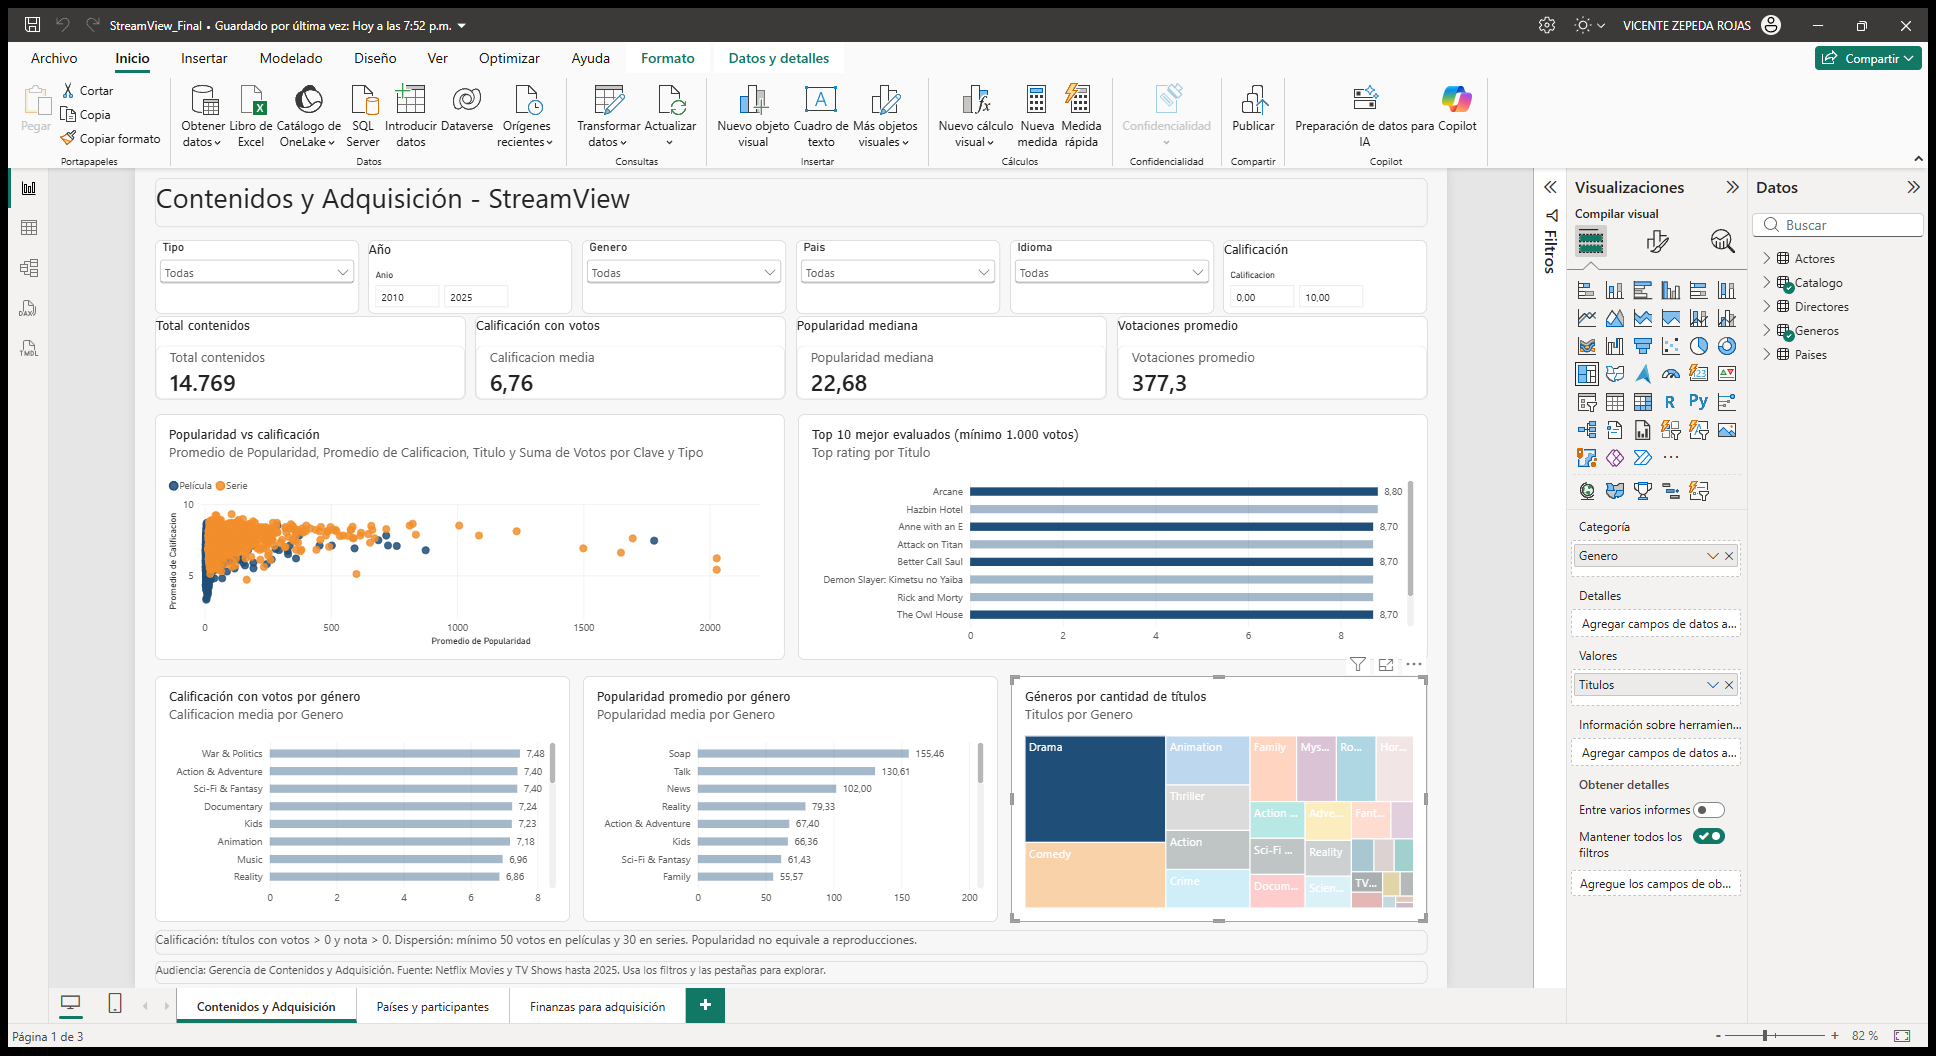

This screenshot's page, from the dashboard's own definition file:
{"tool":"powerbi","page":{"name":"Contenidos y Adquisición","canvas":[1600,1000],"ordinal":0},"visuals":[{"type":"textbox","box":[24,12,1552,60],"z":0},{"type":"slicer","title":"Tipo","fields":{"Values":["Catalogo.Tipo"]},"box":[24,88,248.7,90],"z":1},{"type":"slicer","title":"Año","fields":{"Values":["Catalogo.Anio"]},"box":[284.7,88,248.7,90],"z":2},{"type":"slicer","title":"Género","fields":{"Values":["Generos.Genero"]},"box":[545.3,88,248.7,90],"z":3},{"type":"slicer","title":"País","fields":{"Values":["Paises.Pais"]},"box":[806,88,248.7,90],"z":4},{"type":"slicer","title":"Idioma","fields":{"Values":["Catalogo.Idioma"]},"box":[1066.7,88,248.7,90],"z":5},{"type":"slicer","title":"Calificación","fields":{"Values":["Catalogo.Calificacion"]},"box":[1327.3,88,248.7,90],"z":6},{"type":"textbox","box":[24,967,1552,28],"z":7},{"type":"cardVisual","title":"Total contenidos","fields":{"Data":["Catalogo.Total contenidos"]},"box":[24,180,379,102],"z":8},{"type":"cardVisual","title":"Calificación con votos","fields":{"Data":["Catalogo.Calificacion media"]},"box":[415,180,379,102],"z":9},{"type":"cardVisual","title":"Popularidad mediana","fields":{"Data":["Catalogo.Popularidad mediana"]},"box":[806,180,379,102],"z":10},{"type":"cardVisual","title":"Votaciones promedio","fields":{"Data":["Catalogo.Votaciones promedio"]},"box":[1197,180,379,102],"z":11},{"type":"scatterChart","title":"Popularidad vs calificación","fields":{"Category":["Catalogo.Clave"],"X":["1(Catalogo.Popularidad)"],"Y":["1(Catalogo.Calificacion)"],"Series":["Catalogo.Tipo"]},"box":[24,300,768,300],"z":12},{"type":"clusteredBarChart","title":"Top 10 mejor evaluados (mínimo 1.000 votos)","fields":{"Category":["Catalogo.Titulo"],"Y":["Catalogo.Top rating"]},"box":[808,300,768,300],"z":13},{"type":"clusteredBarChart","title":"Calificación con votos por género","fields":{"Category":["Generos.Genero"],"Y":["Catalogo.Calificacion media"]},"box":[24,620,506,300],"z":14},{"type":"clusteredBarChart","title":"Popularidad promedio por género","fields":{"Category":["Generos.Genero"],"Y":["Catalogo.Popularidad media"]},"box":[546,620,506,300],"z":15},{"type":"treemap","title":"Géneros por cantidad de títulos","fields":{"Group":["Generos.Genero"],"Values":["Catalogo.Titulos"]},"box":[1068,620,508,300],"z":16},{"type":"textbox","box":[24,929,1552,30],"z":17}]}

Visuals, with their boxes on the page's 1600x1000 design canvas (x1, y1, x2, y2). These are canvas units, not pixel positions in the 1936x1056 screenshot, which may show the page scaled, cropped or inside an application window:
textbox: [24,12,1576,72]
"Tipo" slicer: [24,88,273,178]
"Año" slicer: [285,88,533,178]
"Género" slicer: [545,88,794,178]
"País" slicer: [806,88,1055,178]
"Idioma" slicer: [1067,88,1315,178]
"Calificación" slicer: [1327,88,1576,178]
textbox: [24,967,1576,995]
"Total contenidos" cardVisual: [24,180,403,282]
"Calificación con votos" cardVisual: [415,180,794,282]
"Popularidad mediana" cardVisual: [806,180,1185,282]
"Votaciones promedio" cardVisual: [1197,180,1576,282]
"Popularidad vs calificación" scatterChart: [24,300,792,600]
"Top 10 mejor evaluados (mínimo 1.000 votos)" clusteredBarChart: [808,300,1576,600]
"Calificación con votos por género" clusteredBarChart: [24,620,530,920]
"Popularidad promedio por género" clusteredBarChart: [546,620,1052,920]
"Géneros por cantidad de títulos" treemap: [1068,620,1576,920]
textbox: [24,929,1576,959]
